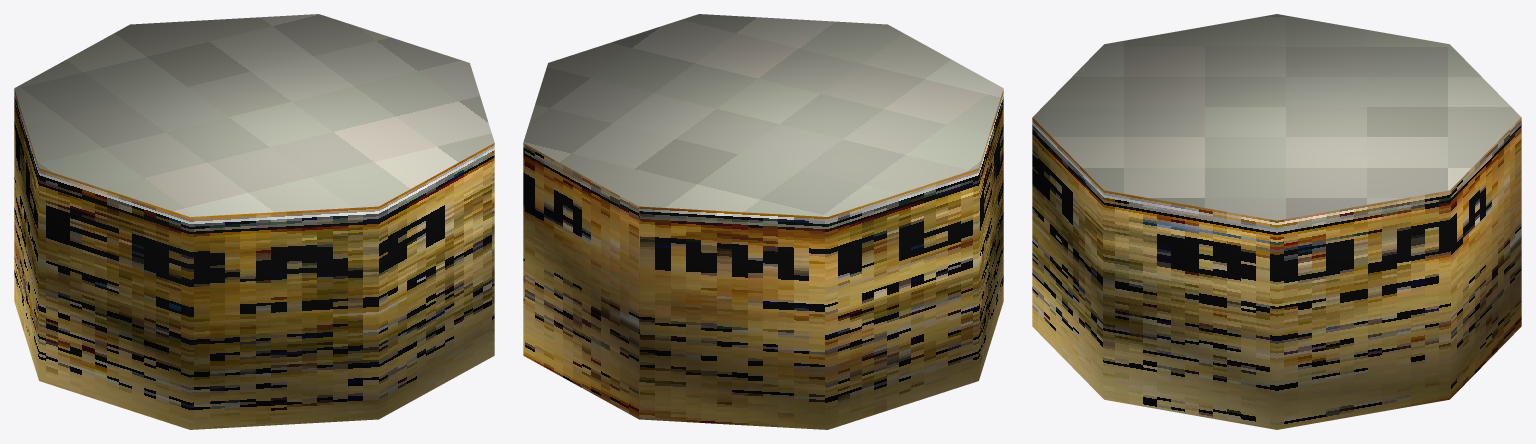
The model's file is agua_enlatada.gltf.
3 views of the same model, side by side, from view 1: azimuth 30°, elevation 25°; view 2: azimuth 150°, elevation 25°; view 3: azimuth 270°, elevation 25° (orthographic).
Parts seen in each view (by area): view 1: WaterCan; view 2: WaterCan; view 3: WaterCan.
Boxes of the visible parts, x1,y1,x2,y2 form: WaterCan: (14,14,494,429); WaterCan: (523,14,1003,429); WaterCan: (1032,14,1521,429).
Bounding box in the file's own units: 0.36 × 0.17 × 0.36.
1 material, 1 textured.
